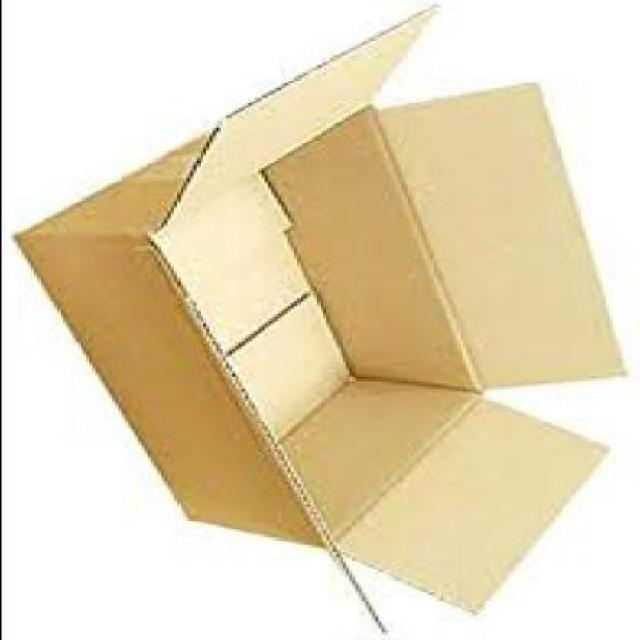CARDBOARD: (16, 10, 630, 638)
